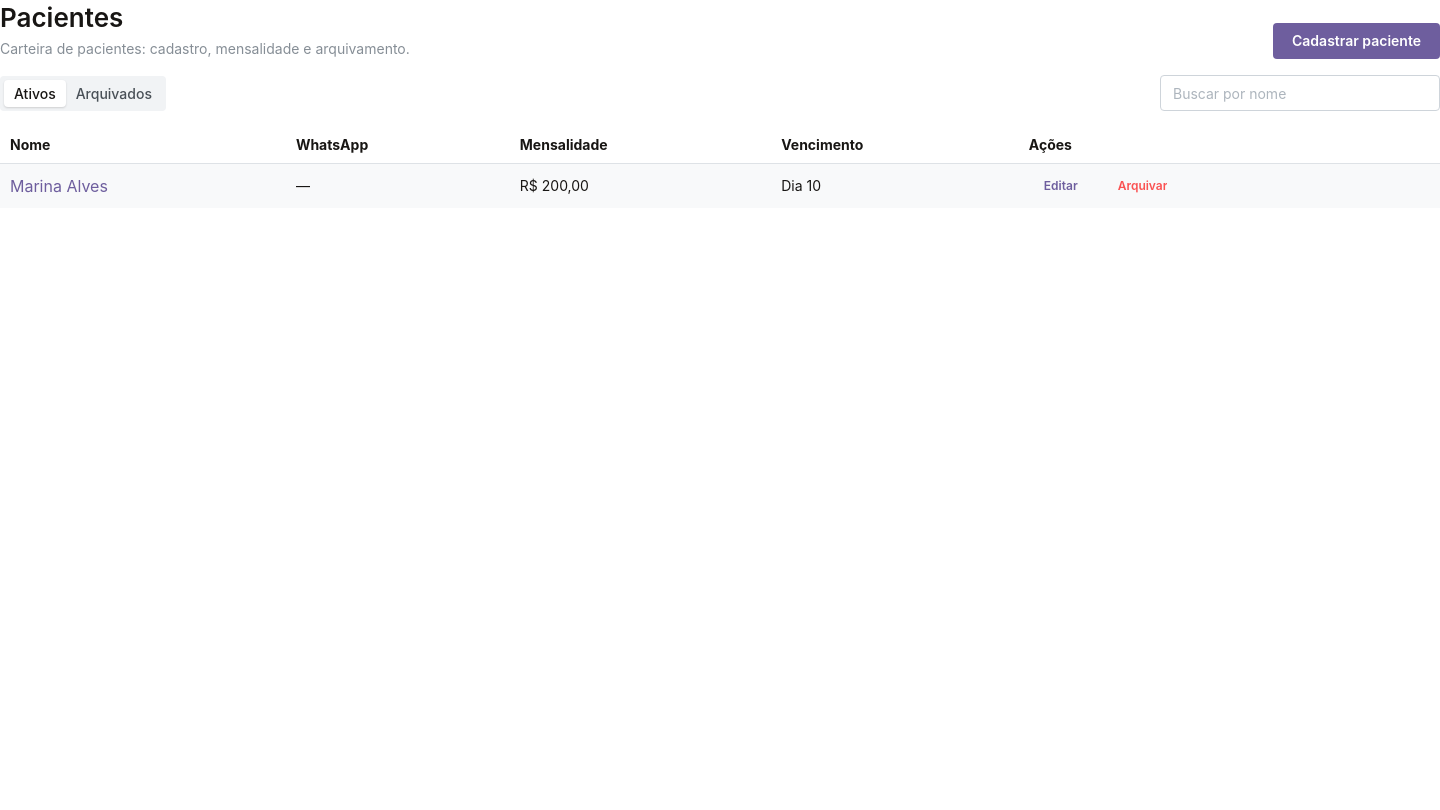
Test: PatientsListPage › arquivar exige confirmação no modal antes de sumir da lista ativa
Expected: the link "Marina Alves" is shown, [10,176,108,196]
Click the button "Arquivar" at (1143, 186), box [1103,171,1182,201]
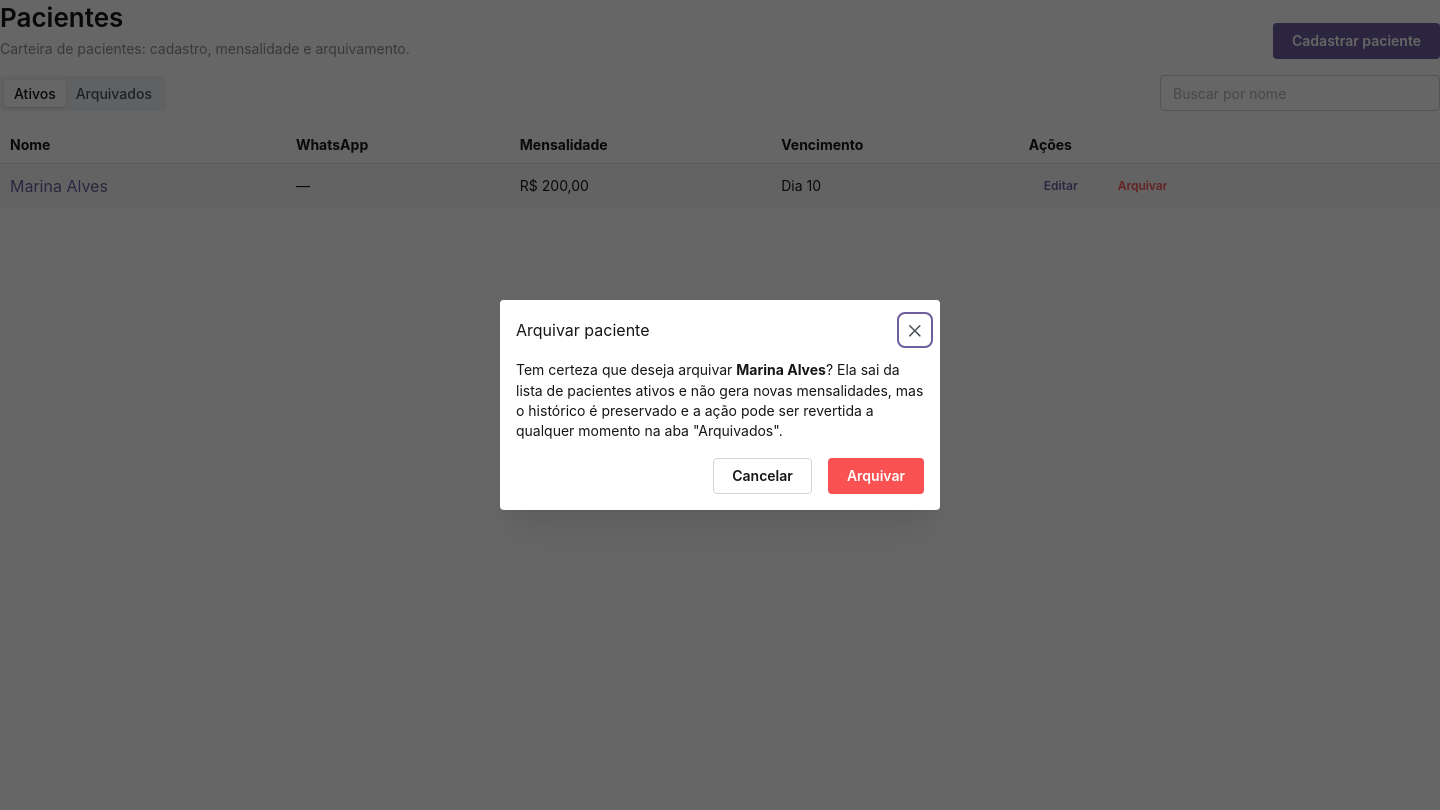
Expected: the text "Marina Alves" is shown, [736,361,826,378]
Click the button with test id "confirm-archive-patient" at (876, 476), box [828,458,924,494]
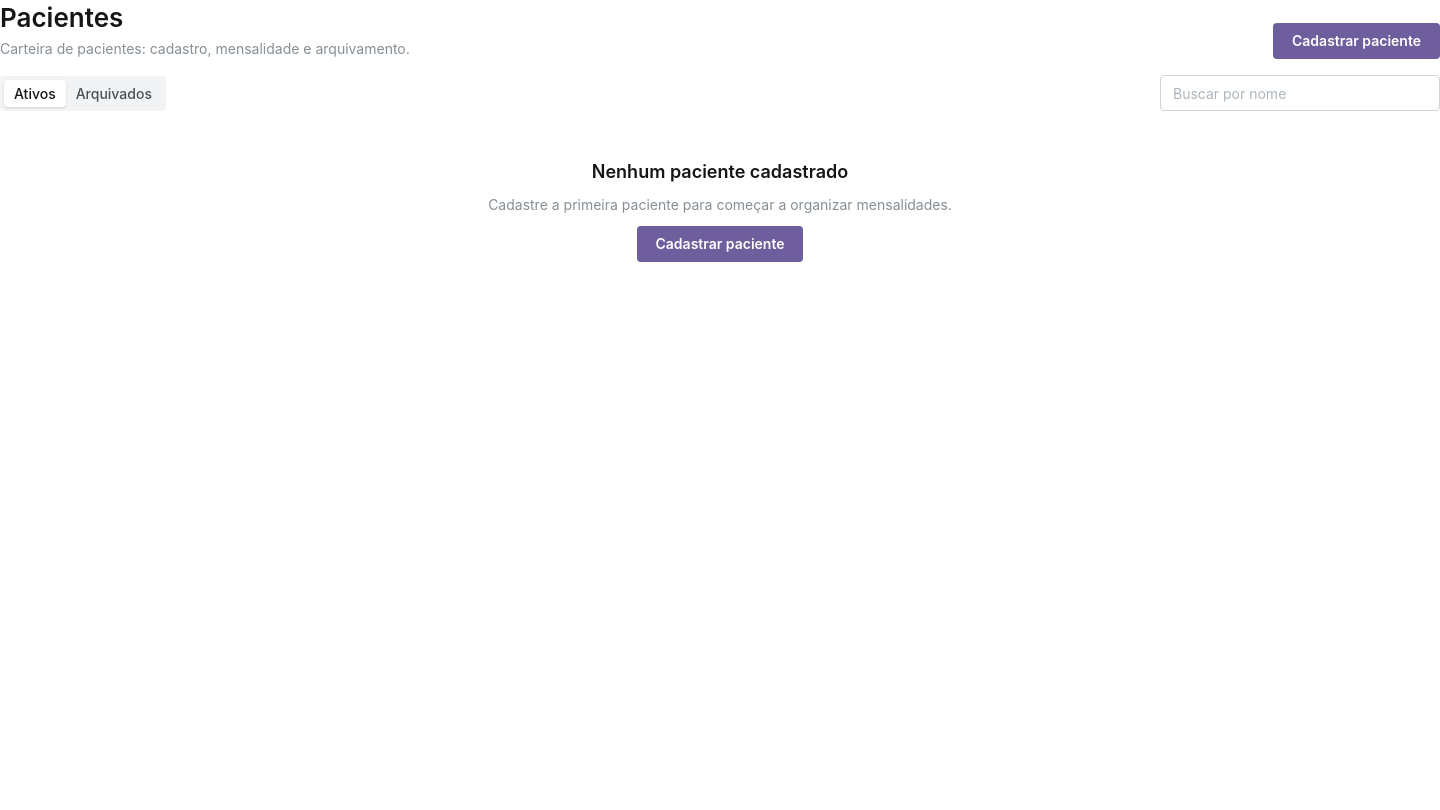
Expected: the link "Marina Alves" is gone
Expected: the heading "Nenhum paciente cadastrado" is shown, [592,159,848,186]
